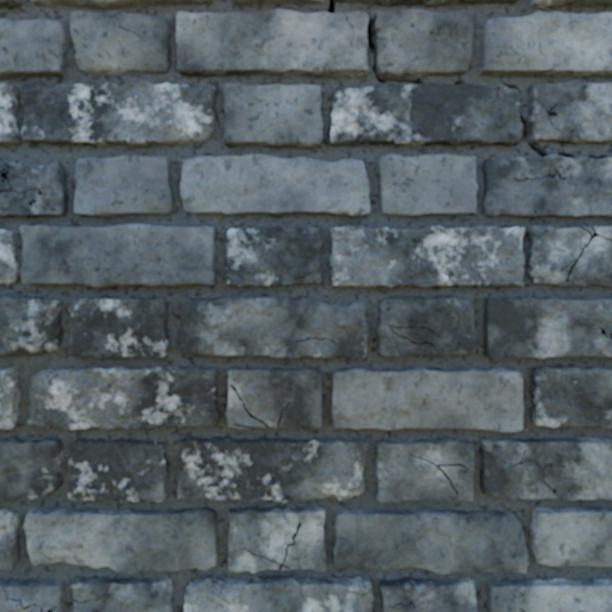brick: (176, 9, 367, 76), (332, 508, 527, 573), (24, 508, 216, 573), (21, 81, 215, 145), (177, 437, 366, 502), (20, 224, 214, 287), (28, 366, 219, 429), (332, 368, 522, 431), (330, 83, 521, 145), (330, 226, 523, 287), (178, 298, 367, 358), (180, 155, 369, 215), (480, 12, 611, 76), (482, 154, 611, 218), (480, 438, 611, 499), (484, 298, 611, 358), (373, 9, 472, 77), (184, 576, 372, 611), (71, 10, 170, 74), (228, 507, 325, 572), (68, 439, 168, 502), (224, 83, 321, 147), (375, 439, 473, 502), (378, 154, 477, 216), (74, 156, 173, 216), (67, 299, 167, 358), (376, 297, 476, 356), (225, 226, 321, 286), (228, 369, 321, 426), (528, 81, 611, 142), (530, 367, 611, 427), (530, 508, 611, 565), (0, 437, 62, 501), (488, 579, 611, 611), (0, 19, 66, 78), (526, 226, 589, 286), (0, 159, 65, 216), (71, 576, 172, 611), (0, 298, 61, 355), (381, 578, 476, 611), (0, 579, 64, 611), (569, 238, 611, 285), (226, 386, 263, 426), (32, 0, 213, 7), (0, 83, 20, 146), (0, 509, 20, 569), (0, 367, 19, 428), (0, 230, 18, 283), (337, 0, 517, 5), (531, 0, 611, 6), (233, 0, 323, 3), (595, 227, 611, 237), (0, 0, 20, 6), (32, 607, 38, 611)
crack: (363, 9, 425, 85), (242, 521, 301, 570), (565, 225, 611, 285), (229, 383, 269, 427), (2, 585, 52, 611), (519, 114, 548, 158), (276, 401, 290, 427), (383, 600, 416, 608), (73, 597, 100, 604), (597, 326, 611, 339), (331, 123, 341, 141), (232, 423, 258, 429), (502, 83, 519, 91), (327, 0, 336, 13), (557, 152, 576, 158), (588, 155, 609, 159), (453, 80, 465, 85), (344, 14, 349, 23), (519, 608, 525, 611)
